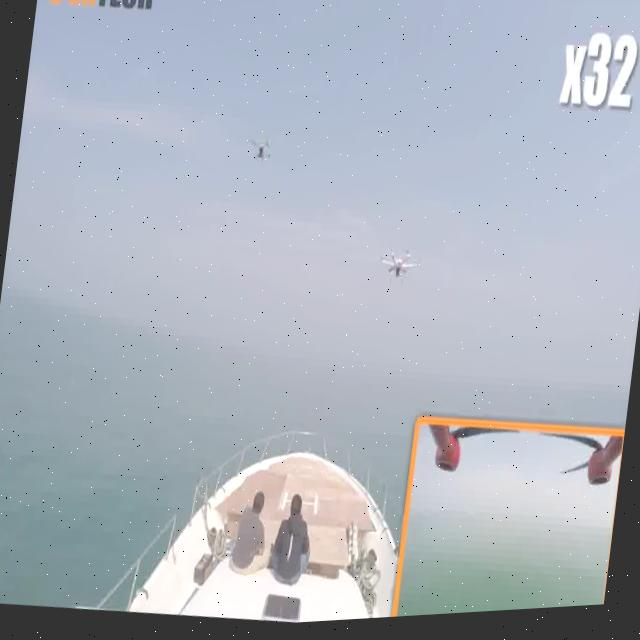drone: (217, 102, 303, 209)
